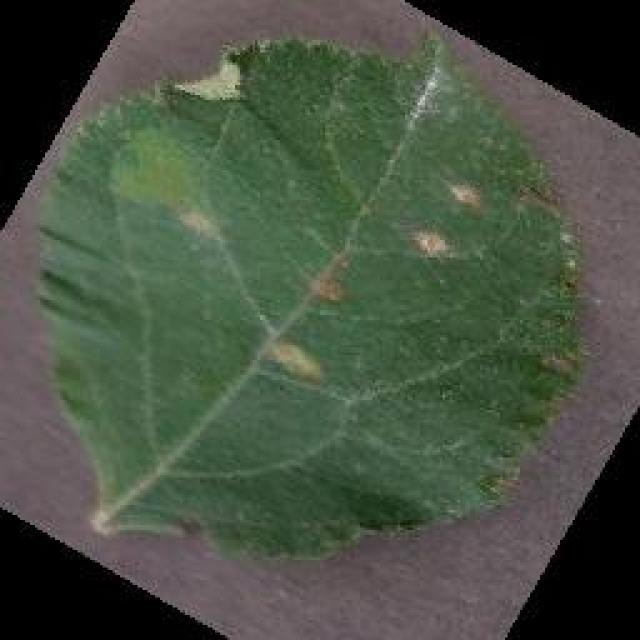apple healthy: (30, 30, 590, 562)
